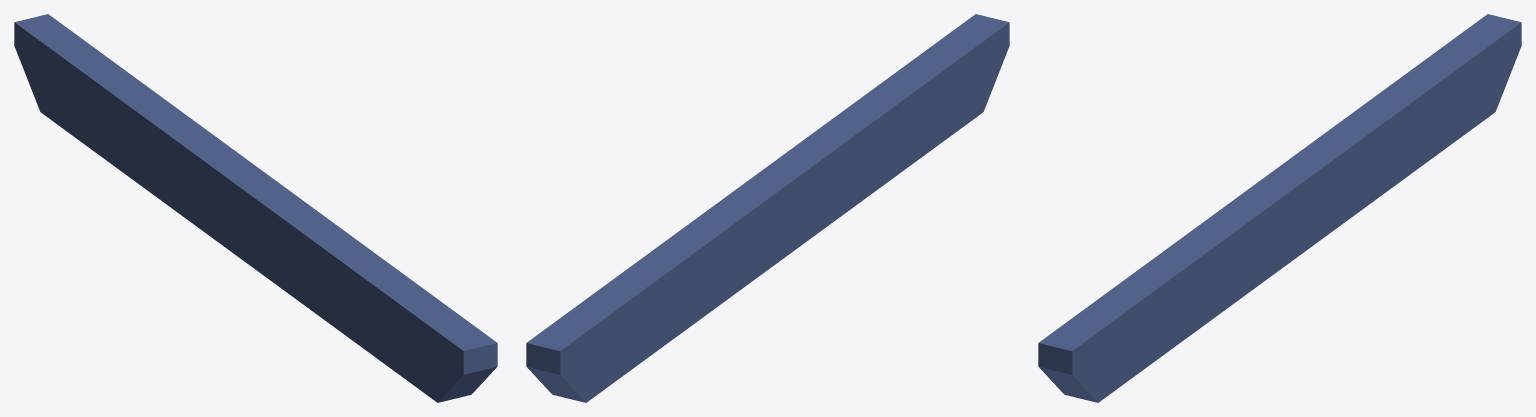
Rendered from original-5.obj.
3 views of the same model, side by side, from view 1: azimuth 30°, elevation 25°; view 2: azimuth 150°, elevation 25°; view 3: azimuth 330°, elevation 25° (orthographic).
Visible parts, largest first — view 1: shelf_strut2/shelf_strut/mesh3/mesh3-geometry#mesh3-geometry; view 2: shelf_strut2/shelf_strut/mesh3/mesh3-geometry#mesh3-geometry; view 3: shelf_strut2/shelf_strut/mesh3/mesh3-geometry#mesh3-geometry.
Boxes of the visible parts, x1,y1,x2,y2 form: shelf_strut2/shelf_strut/mesh3/mesh3-geometry#mesh3-geometry: (14, 14, 497, 402); shelf_strut2/shelf_strut/mesh3/mesh3-geometry#mesh3-geometry: (526, 14, 1009, 402); shelf_strut2/shelf_strut/mesh3/mesh3-geometry#mesh3-geometry: (1038, 14, 1521, 402).
Bounding box in the file's own units: 0.0213 × 0.0427 × 0.4908.
